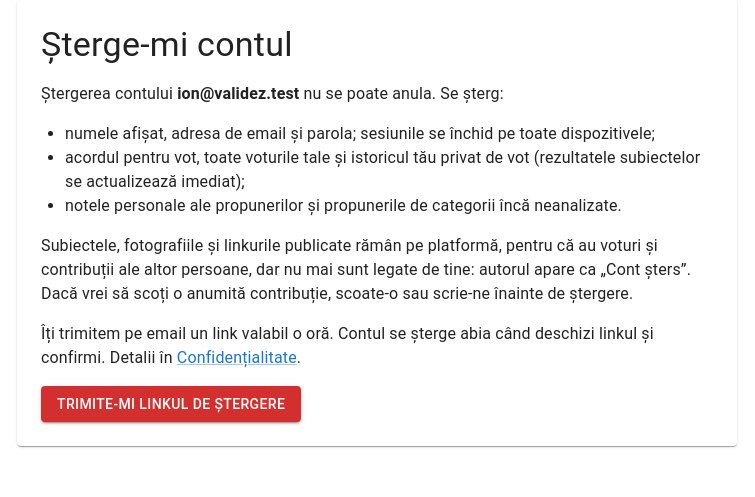
Test: utilizator: explicația, apoi linkul trimis pe email
Expected: the text "nu se poate anula" is shown, x1=299 y1=84 x2=504 y2=103
Expected: the text "autorul apare ca „Cont șters”" is shown, x1=41 y1=236 x2=691 y2=303
Click the button "Trimite-mi linkul de ștergere" at (171, 404), box x1=41 y1=386 x2=301 y2=422
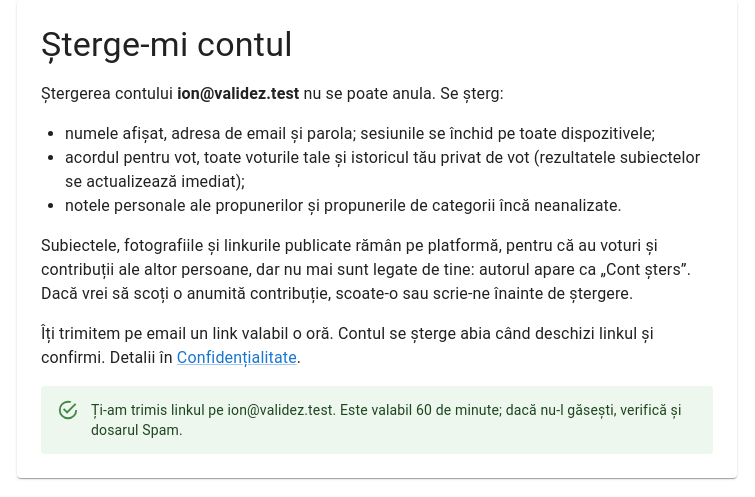
Result: the text "Ți-am trimis linkul pe ion@validez.test. Este valabil 60 de minute" is shown at x1=91 y1=392 x2=697 y2=448
